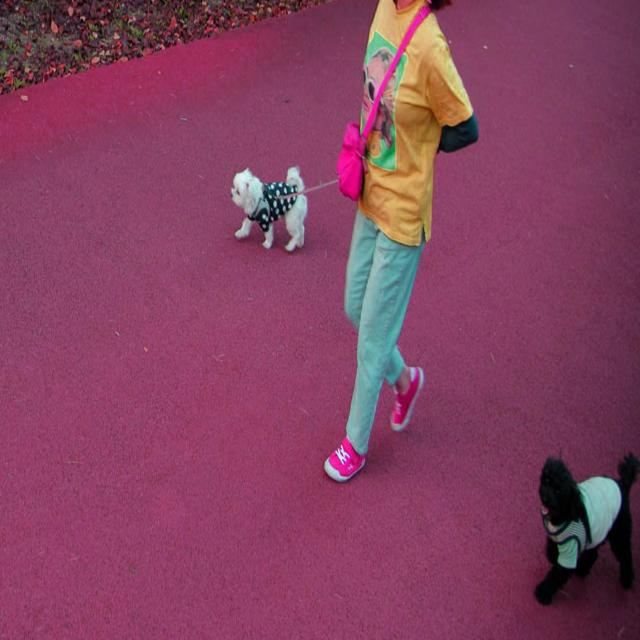Leashed_Dog: (230, 166, 364, 254)
Unleashed_Dog: (397, 198, 640, 604)
